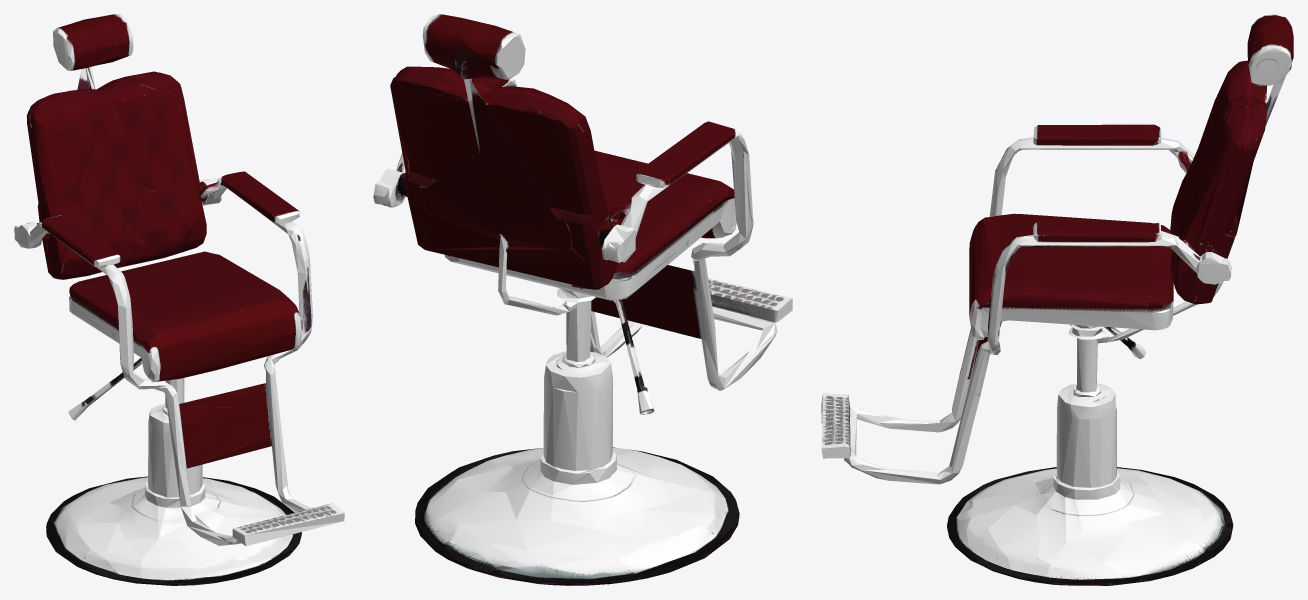
The model's file is baltimore-barber-chair.glb.
The picture shows the model from 3 angles, left to right: view 1: azimuth 30°, elevation 25°; view 2: azimuth 150°, elevation 25°; view 3: azimuth 270°, elevation 25°; orthographic projection. The views are drawn at different scales.
Bounding box in the file's own units: 0.9642 × 1.9 × 1.62.
1 material, 1 textured.
